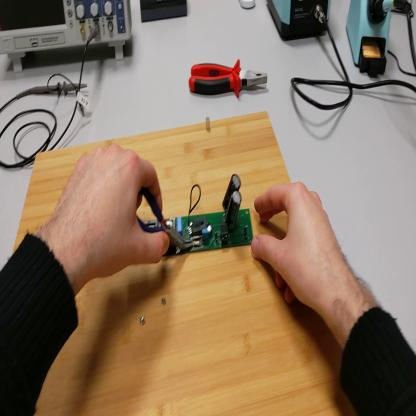hand: (59, 144, 170, 281), (252, 181, 342, 314)
high voltage board: (146, 173, 255, 254)
oscilloscope: (2, 2, 134, 74)
oscilloscope probe tip: (28, 79, 89, 99)
pliers: (134, 186, 194, 250), (188, 58, 269, 100)
welder base: (346, 3, 393, 85)
welder probe tip: (373, 1, 407, 21)
welder station: (266, 2, 333, 43)
working area: (14, 110, 358, 415)
